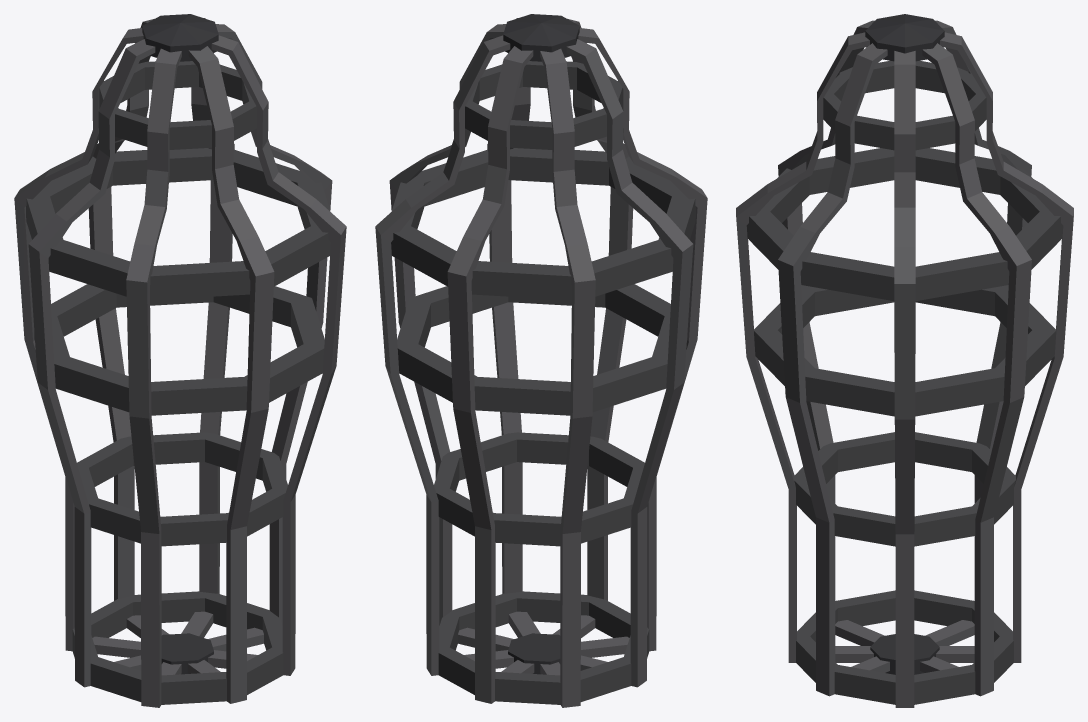
Rendered from SM_Prop_Cage_01.glb.
3 renders of one model, left to right at view 1: azimuth 30°, elevation 25°; view 2: azimuth 150°, elevation 25°; view 3: azimuth 270°, elevation 25°, orthographic.
Parts seen in each view (by area): view 1: SM_Prop_Cage_01_part00; view 2: SM_Prop_Cage_01_part00; view 3: SM_Prop_Cage_01_part00.
Part boxes in pixels (left/top/right/bottom): SM_Prop_Cage_01_part00: left=14, top=14, right=346, bottom=707; SM_Prop_Cage_01_part00: left=375, top=14, right=707, bottom=707; SM_Prop_Cage_01_part00: left=736, top=14, right=1073, bottom=707.
Bounding box in the file's own units: 0.9266 × 1.94 × 0.9266.
Materials: 1 (1 with a texture image).
